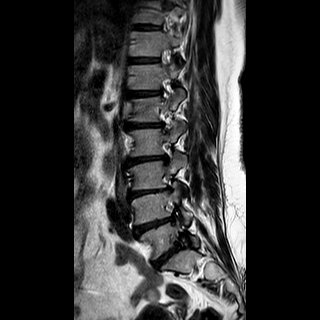RFS1: (156, 139, 180, 166)
